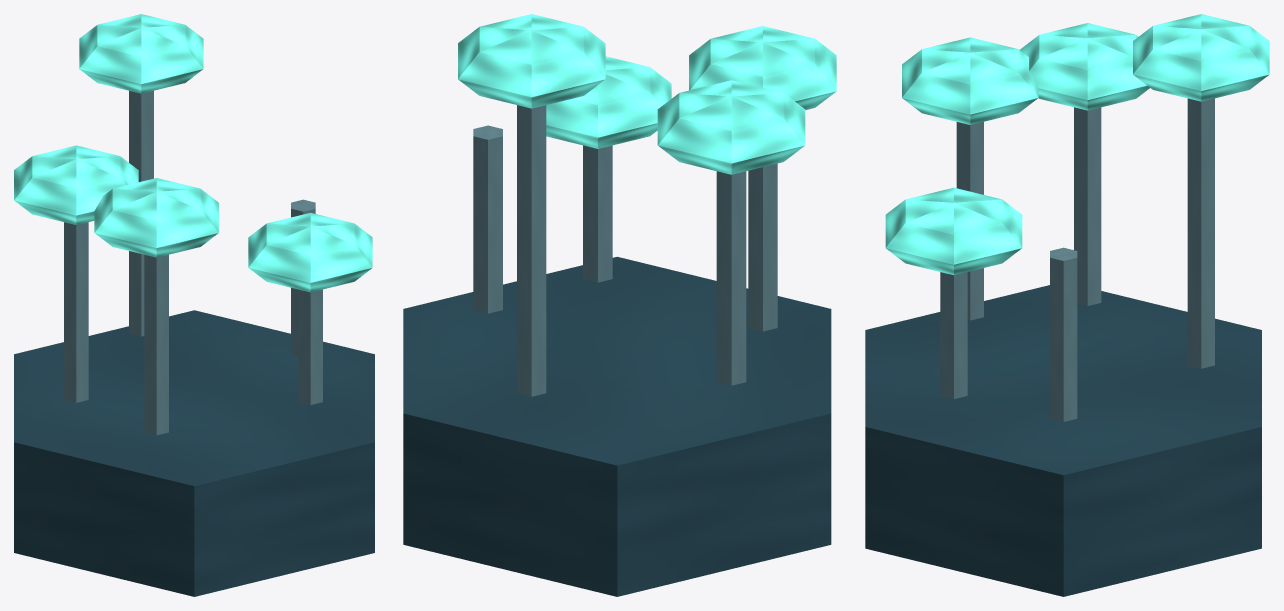
File: atlas100-s061-a12.lod1.glb
3 views of the same model, side by side, from view 1: azimuth 30°, elevation 25°; view 2: azimuth 150°, elevation 25°; view 3: azimuth 270°, elevation 25° (orthographic). The views are drawn at different scales.
Parts seen in each view (by area): view 1: atlas100-s061-a12:part-000, atlas100-s061-a12:part-006, atlas100-s061-a12:part-008, atlas100-s061-a12:part-004, atlas100-s061-a12:part-010, atlas100-s061-a12:part-003, atlas100-s061-a12:part-009, atlas100-s061-a12:part-005, atlas100-s061-a12:part-007, atlas100-s061-a12:part-001; view 2: atlas100-s061-a12:part-000, atlas100-s061-a12:part-010, atlas100-s061-a12:part-006, atlas100-s061-a12:part-005, atlas100-s061-a12:part-004, atlas100-s061-a12:part-008, atlas100-s061-a12:part-009, atlas100-s061-a12:part-001, atlas100-s061-a12:part-003, atlas100-s061-a12:part-007; view 3: atlas100-s061-a12:part-000, atlas100-s061-a12:part-008, atlas100-s061-a12:part-006, atlas100-s061-a12:part-004, atlas100-s061-a12:part-010, atlas100-s061-a12:part-005, atlas100-s061-a12:part-009, atlas100-s061-a12:part-001, atlas100-s061-a12:part-007, atlas100-s061-a12:part-003.
Boxes of the visible parts, x1,y1,x2,y2 form: atlas100-s061-a12:part-000: (14,310,374,596); atlas100-s061-a12:part-006: (79,14,203,93); atlas100-s061-a12:part-008: (248,212,372,292); atlas100-s061-a12:part-004: (94,178,218,257); atlas100-s061-a12:part-010: (14,145,138,224); atlas100-s061-a12:part-003: (144,254,168,435); atlas100-s061-a12:part-009: (64,222,88,402); atlas100-s061-a12:part-005: (129,90,153,336); atlas100-s061-a12:part-007: (298,289,322,404); atlas100-s061-a12:part-001: (291,199,315,356); atlas100-s061-a12:part-000: (403,256,831,596); atlas100-s061-a12:part-010: (657,80,805,174); atlas100-s061-a12:part-006: (458,14,605,108); atlas100-s061-a12:part-005: (517,105,546,396); atlas100-s061-a12:part-004: (689,26,836,110); atlas100-s061-a12:part-008: (546,56,671,148); atlas100-s061-a12:part-009: (716,171,746,385); atlas100-s061-a12:part-001: (473,125,502,313); atlas100-s061-a12:part-003: (748,163,777,331); atlas100-s061-a12:part-007: (583,145,612,282); atlas100-s061-a12:part-000: (865,285,1261,596); atlas100-s061-a12:part-008: (885,187,1022,275); atlas100-s061-a12:part-006: (1133,14,1269,101); atlas100-s061-a12:part-004: (902,37,1038,124); atlas100-s061-a12:part-010: (1020,23,1149,110); atlas100-s061-a12:part-005: (1187,98,1214,368); atlas100-s061-a12:part-009: (1074,107,1101,305); atlas100-s061-a12:part-001: (1050,247,1077,421); atlas100-s061-a12:part-007: (940,272,967,398); atlas100-s061-a12:part-003: (956,122,983,320).
Bounding box in the file's own units: 1.16 × 1.33 × 1.02.
Materials: 3 (3 with a texture image).
